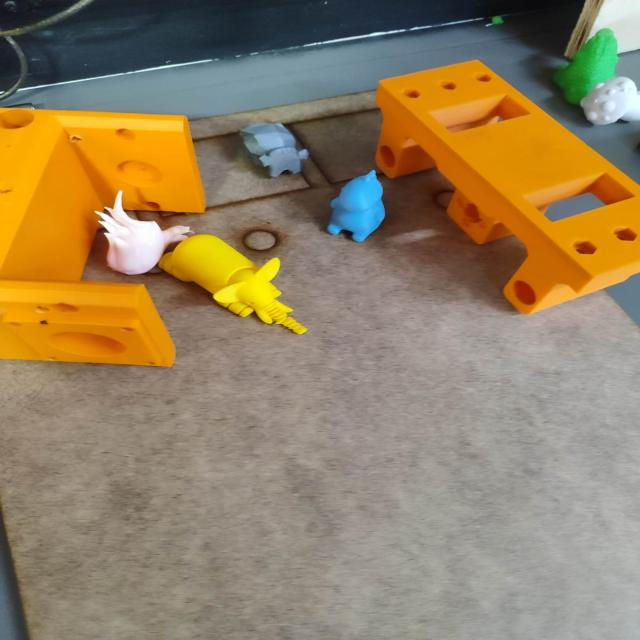DINO: (322, 159, 396, 251)
